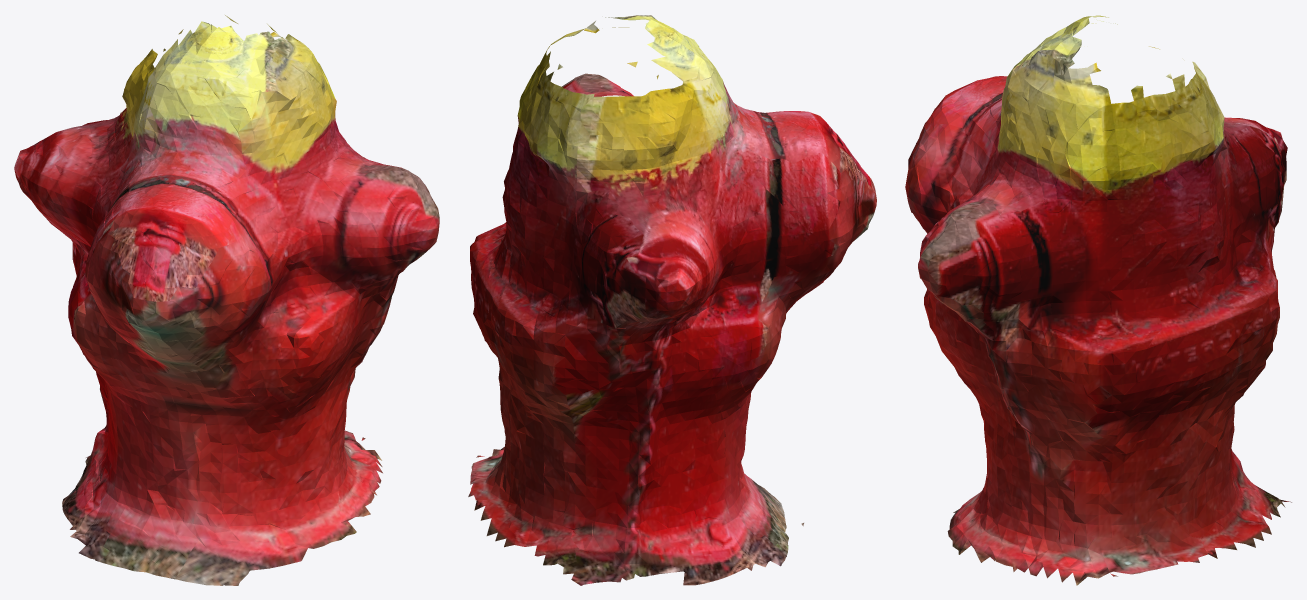
Rendered from Untitled_Scan_00_37_17.gltf.
3 views of the same model, side by side, from view 1: azimuth 30°, elevation 25°; view 2: azimuth 150°, elevation 25°; view 3: azimuth 270°, elevation 25° (orthographic). The views are drawn at different scales.
Size of the model in its own units: 0.393 by 0.585 by 0.393.
1 material, 1 textured.
